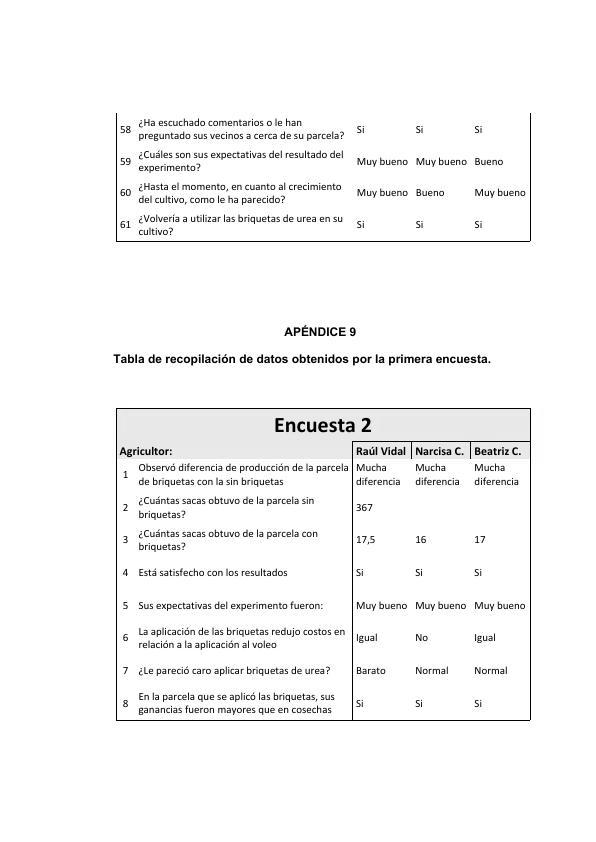table: (108, 399, 537, 727), (111, 110, 537, 247)
text: (109, 323, 505, 376)
